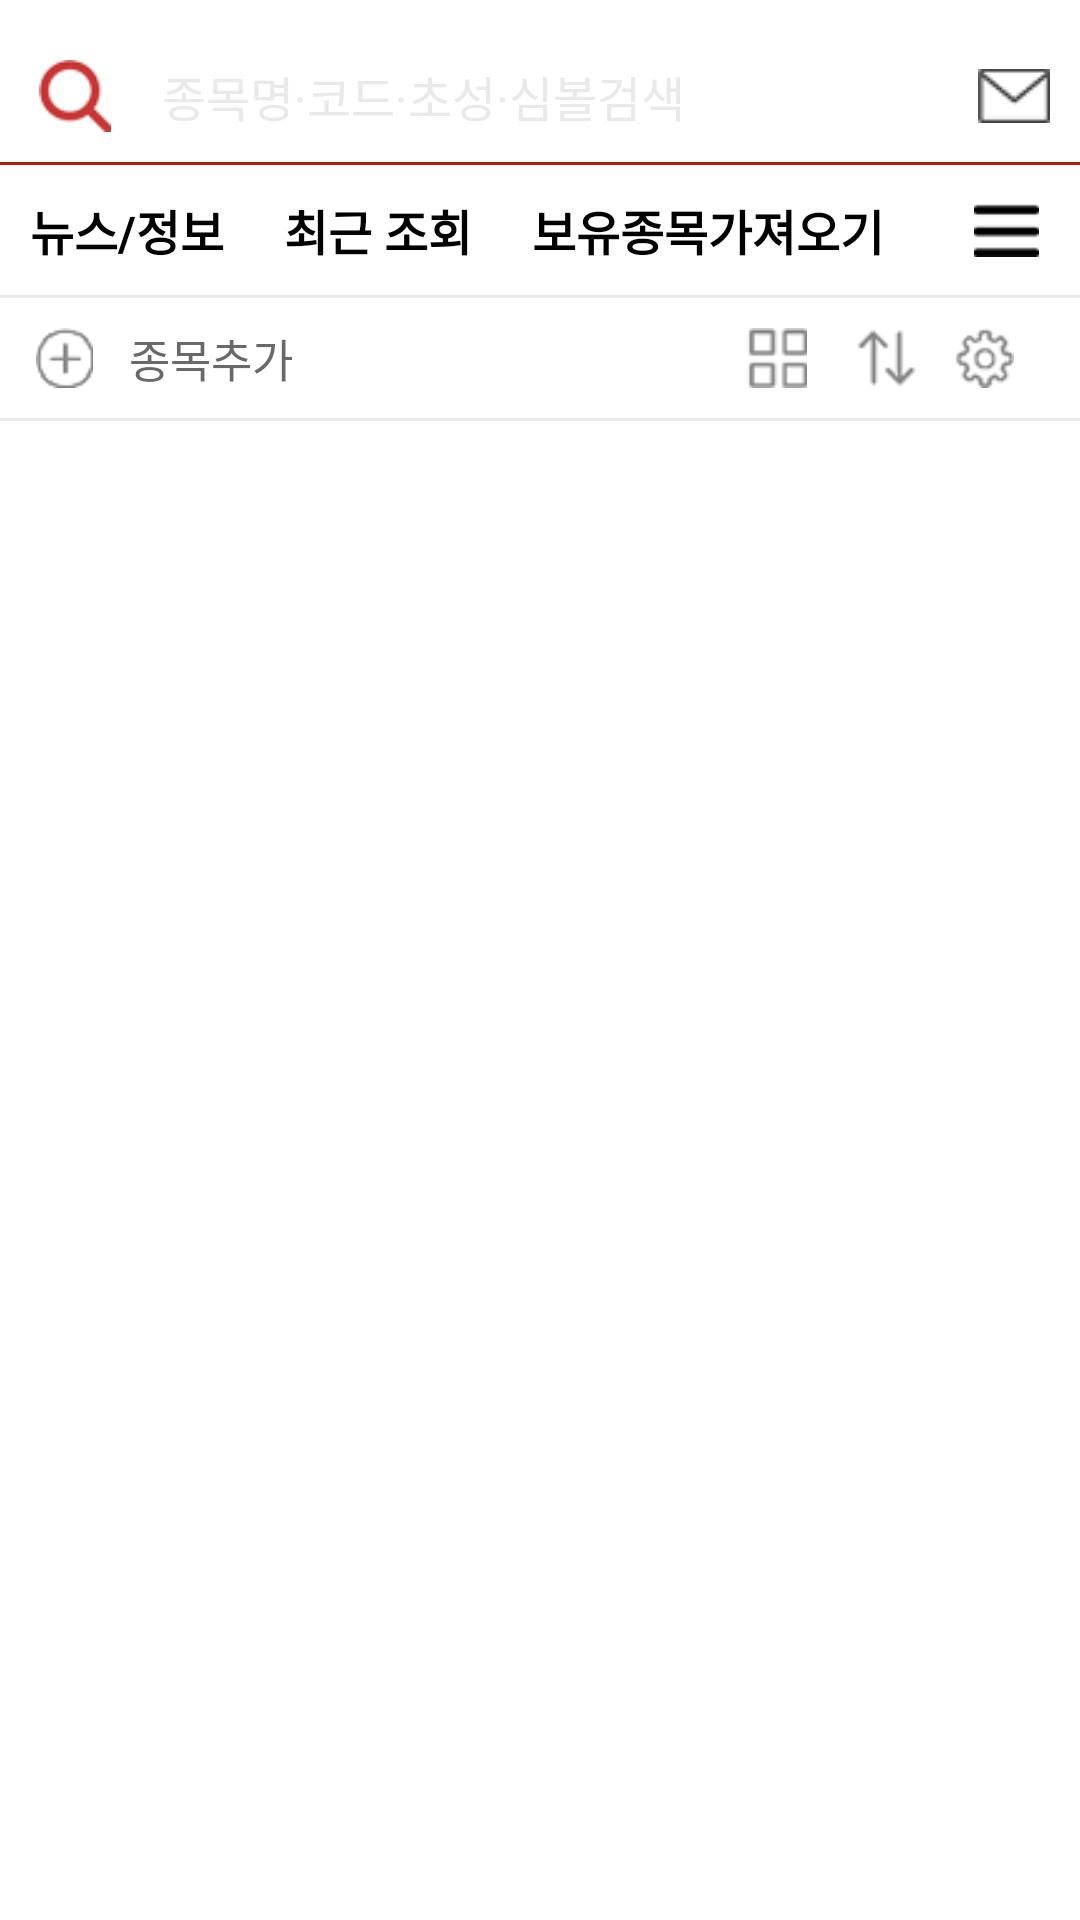

Where to tap for icons on this 1080px x 1920px app screen, as [x,y]:
add stock: [64,358]
grid: [778,358]
mail: [1014,96]
search: [75,96]
setting: [985,359]
sorting: [886,358]
